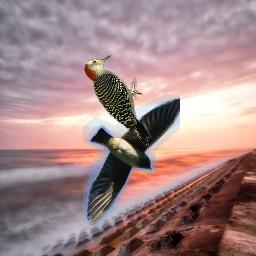Swallow: (83, 95, 180, 226)
Woodpecker: (82, 55, 153, 147)
